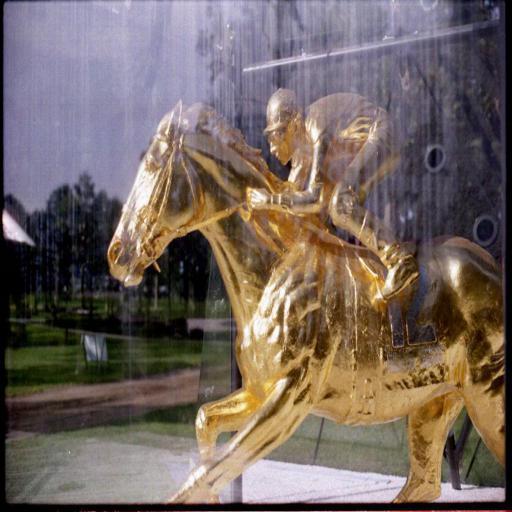horse: (107, 101, 509, 503)
